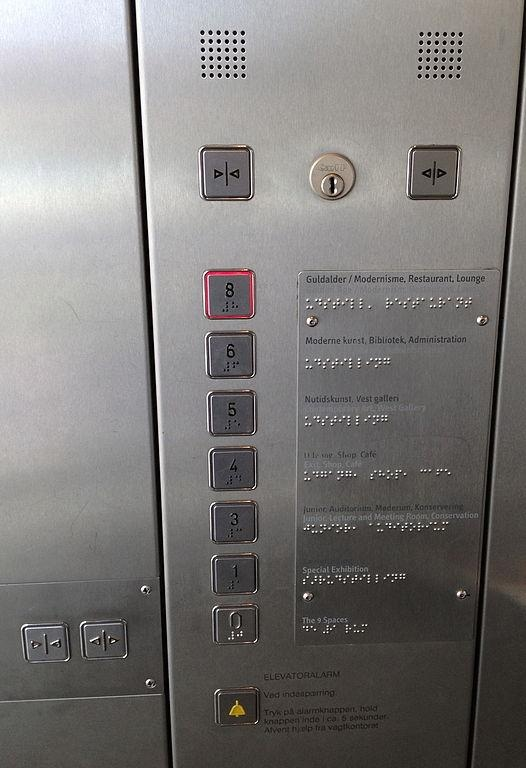0: (211, 601, 260, 646)
1: (209, 550, 260, 596)
3: (208, 497, 260, 546)
4: (207, 443, 259, 492)
5: (205, 386, 259, 437)
6: (203, 328, 259, 381)
8: (201, 265, 258, 322)
alarm: (213, 683, 262, 728)
close: (197, 142, 256, 202), (18, 619, 71, 665)
keyhole: (307, 150, 357, 202)
open: (404, 142, 463, 201), (79, 616, 129, 660)
